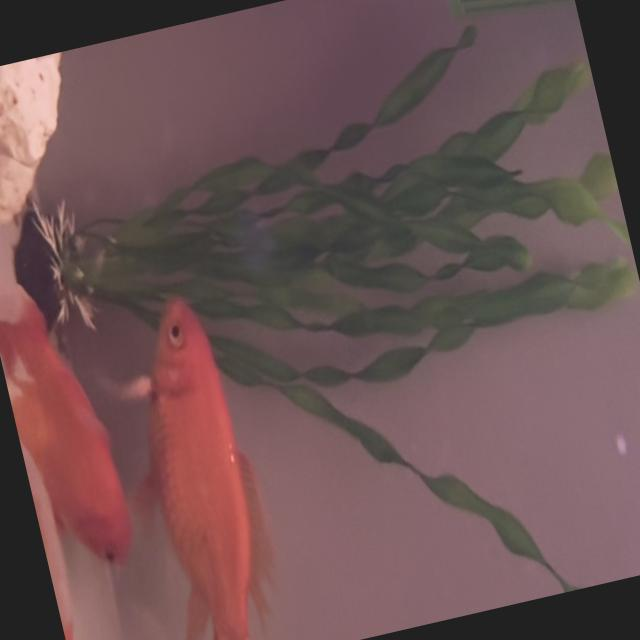fish: (88, 285, 298, 640), (0, 244, 165, 595)
